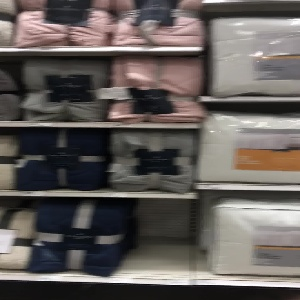void: (117, 197, 204, 274)
